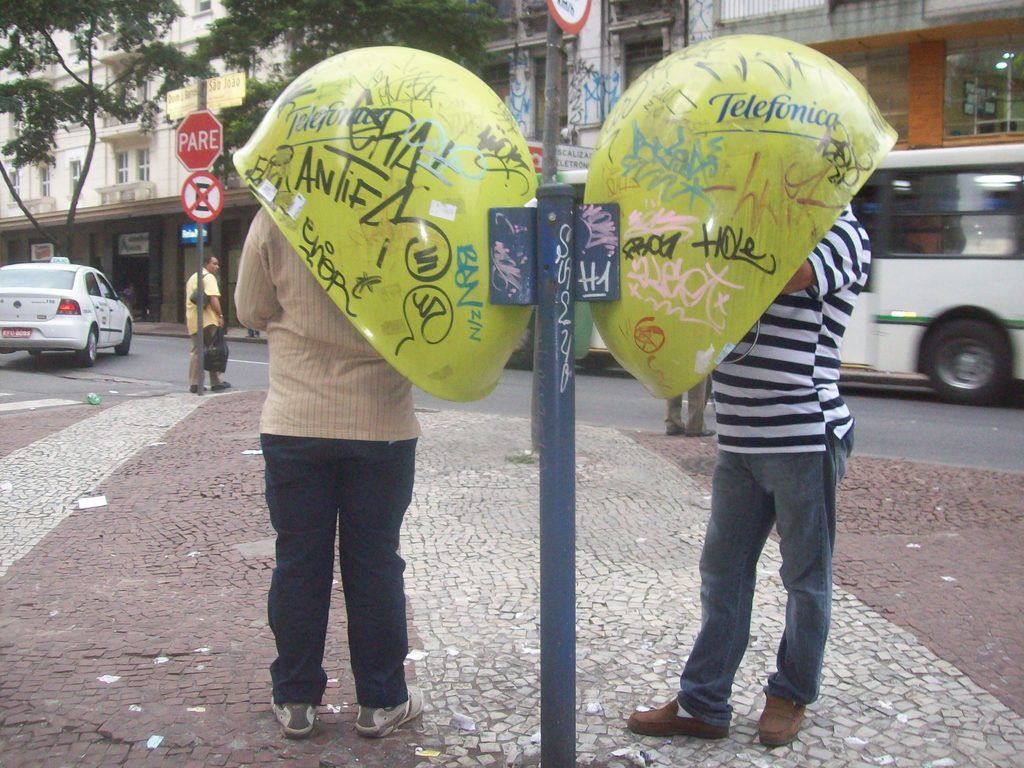Car: (8, 250, 124, 358)
